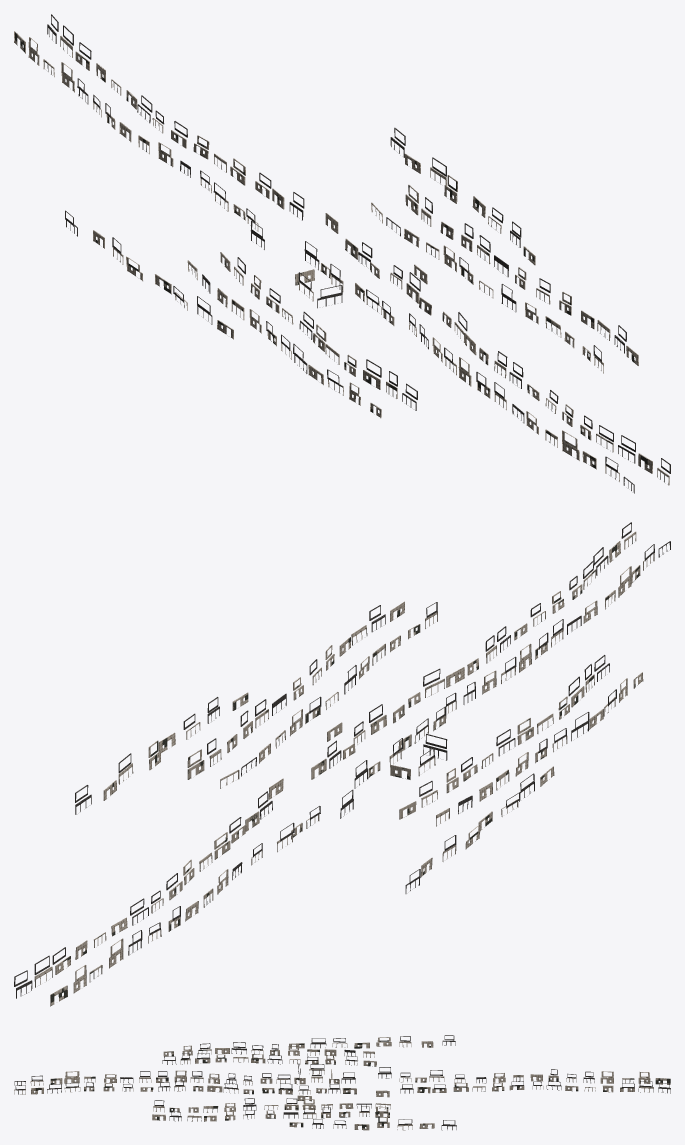
Rendered from canal_recess.glb.
3 renders of one model, top to bottom at view 1: azimuth 30°, elevation 25°; view 2: azimuth 150°, elevation 25°; view 3: azimuth 270°, elevation 25°, orthographic. The views are drawn at different scales.
Visible parts, largest first — view 1: canal_recess0; view 2: canal_recess0; view 3: canal_recess0.
Part boxes in pixels (left/top/right/bottom): canal_recess0: left=14, top=14, right=670, bottom=493; canal_recess0: left=14, top=522, right=670, bottom=1006; canal_recess0: left=14, top=1035, right=670, bottom=1130.
Size of the model in its own units: 107 by 6.81 by 346.
1 material, 1 textured.
